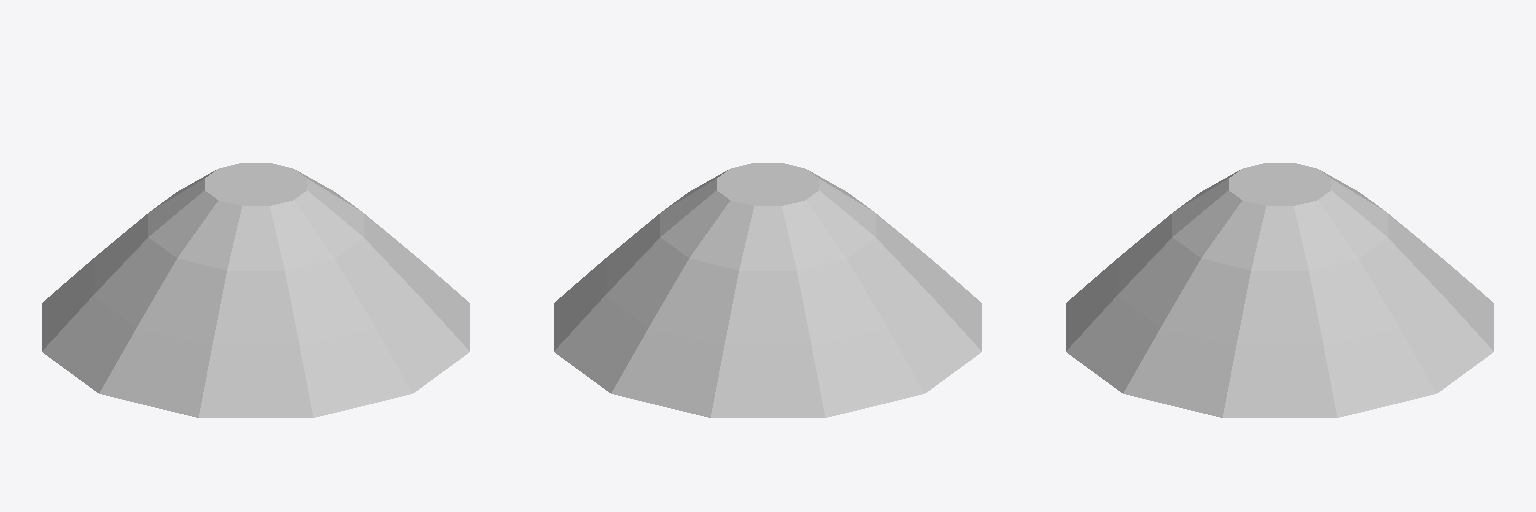
The model's file is saw_dust_item.obj.
3 renders of one model, left to right at view 1: azimuth 30°, elevation 25°; view 2: azimuth 150°, elevation 25°; view 3: azimuth 270°, elevation 25°, orthographic.
Visible parts, largest first — view 1: saw_dust_saw_dust_item; view 2: saw_dust_saw_dust_item; view 3: saw_dust_saw_dust_item.
Part boxes in pixels (x1,y1,x2,y2): saw_dust_saw_dust_item: (42,163,469,417); saw_dust_saw_dust_item: (554,163,981,417); saw_dust_saw_dust_item: (1066,163,1493,417).
Size of the model in its own units: 0.2319 by 0.0855 by 0.2319.